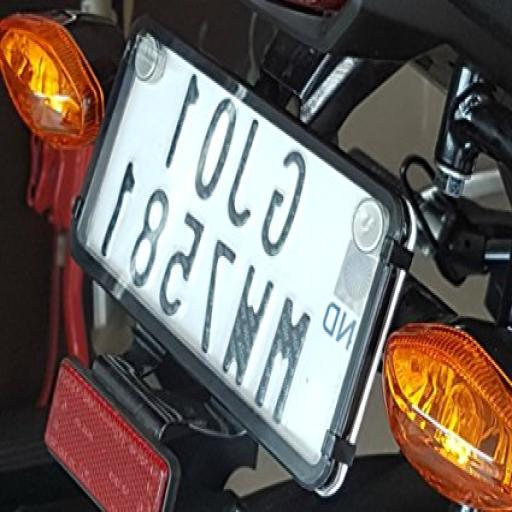License: (57, 5, 430, 512)
